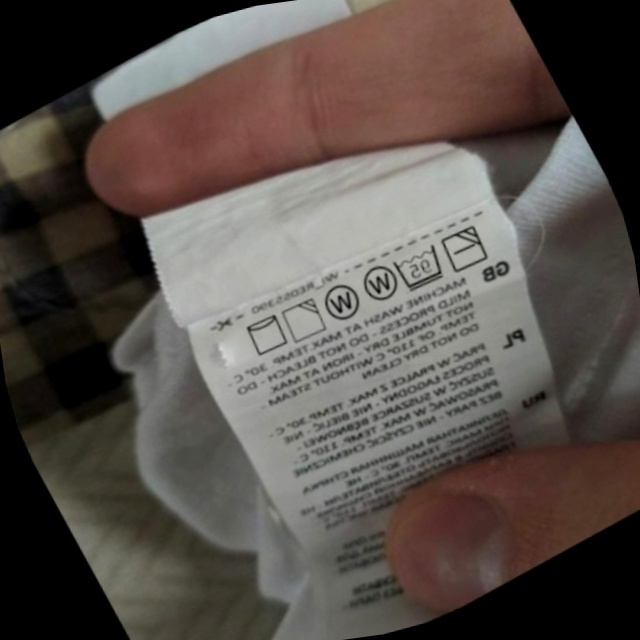95C: (382, 233, 456, 302)
dry_flat_in_shade: (431, 214, 498, 283)
line_dry: (233, 303, 298, 367)
shade_dry: (272, 288, 336, 353)
wet_clean: (311, 271, 373, 335), (348, 251, 409, 315)
